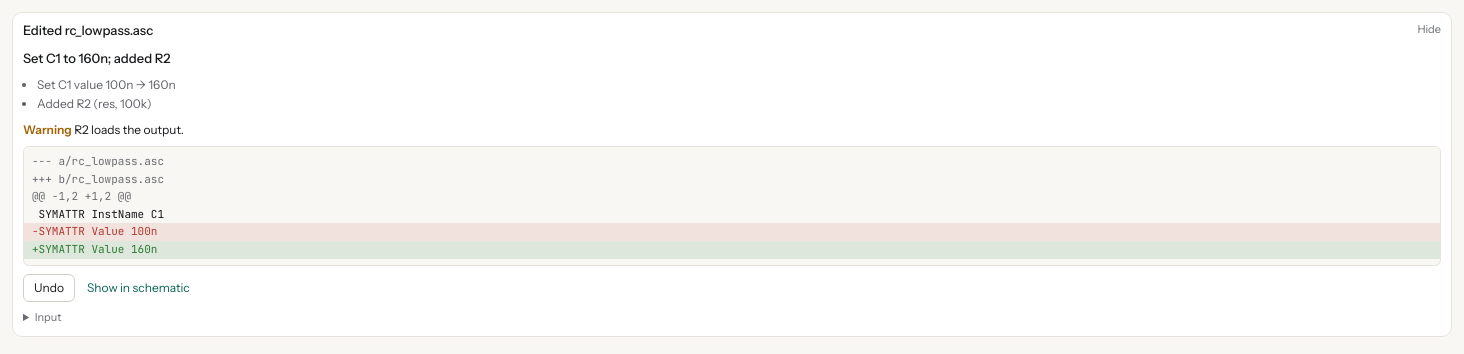
Test: ToolCard › opens an edit card with the applied list, warnings, a coloured diff and Undo
Check: the list item "Set C1 value 100n -> 160n" is shown, box [37,77,176,92]
Check: the list item "R2 loads the output." is shown, box [74,122,184,137]
Click the button "Undo".
click(49, 288)  # box [23,274,75,302]
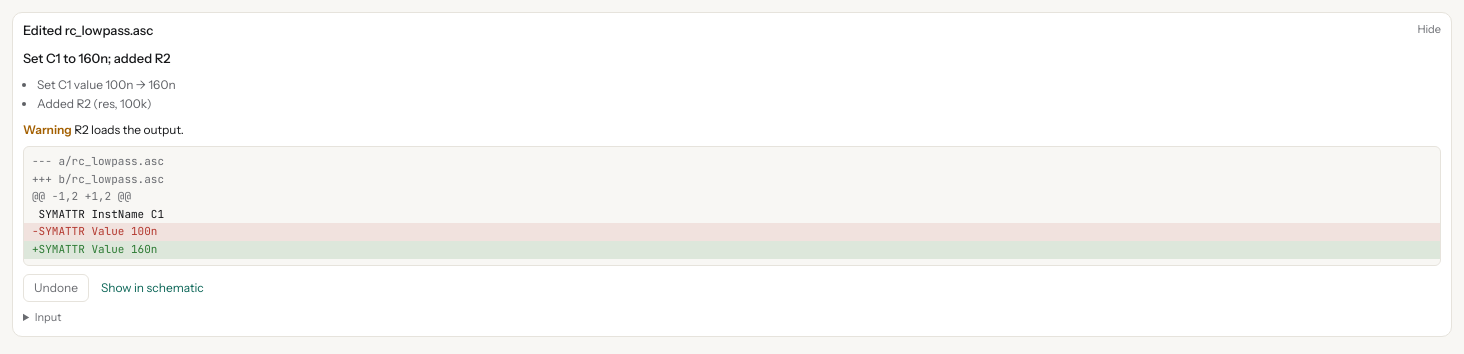
Check: the button "Undone" is shown, box [23,274,89,302]
